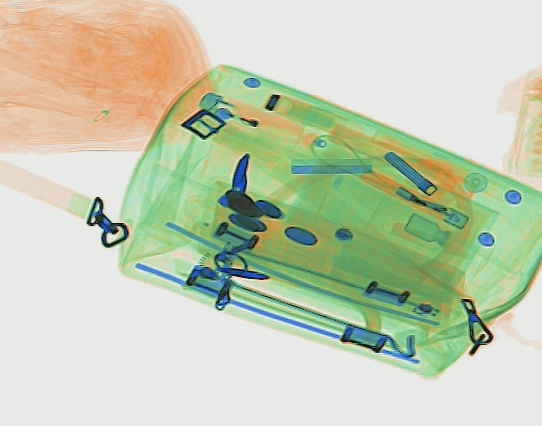lighter: (358, 165, 468, 228), (197, 88, 306, 142)
